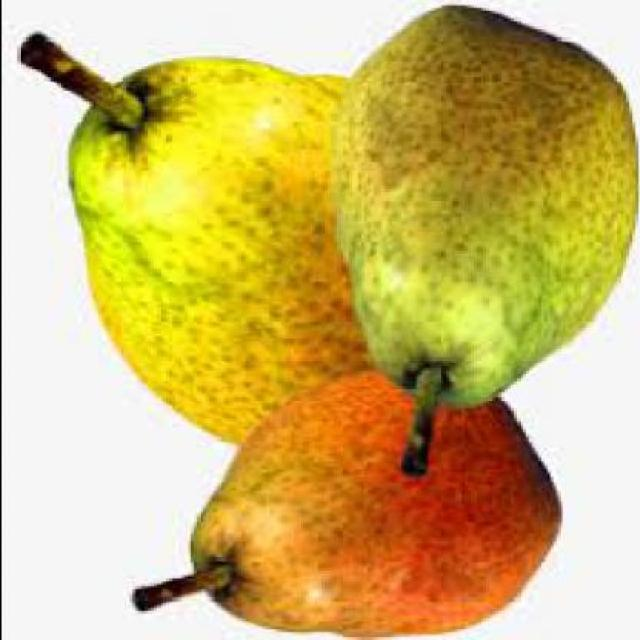BIODEGRADABLE: (12, 30, 370, 445), (329, 5, 637, 472), (127, 365, 558, 638)
